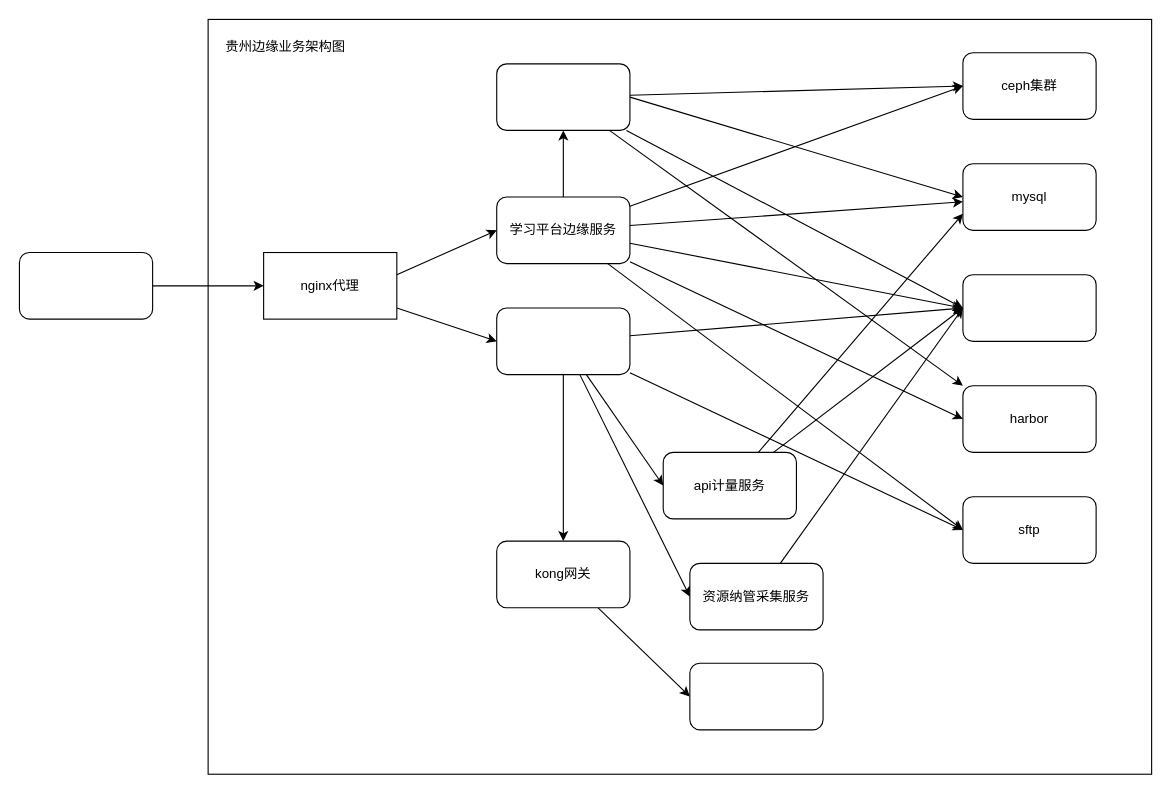
Some shapes in this 1171 by 794 pixel diagram are drawn without their labels. The box of each missing label's shape, as (x1, y1, x2, y2) in pixels:
pg: (689, 662, 823, 730)
redis: (962, 274, 1096, 341)
中控服务: (18, 251, 153, 319)
推理平台边缘服务: (496, 307, 630, 375)
训练调度服务: (496, 63, 630, 130)
